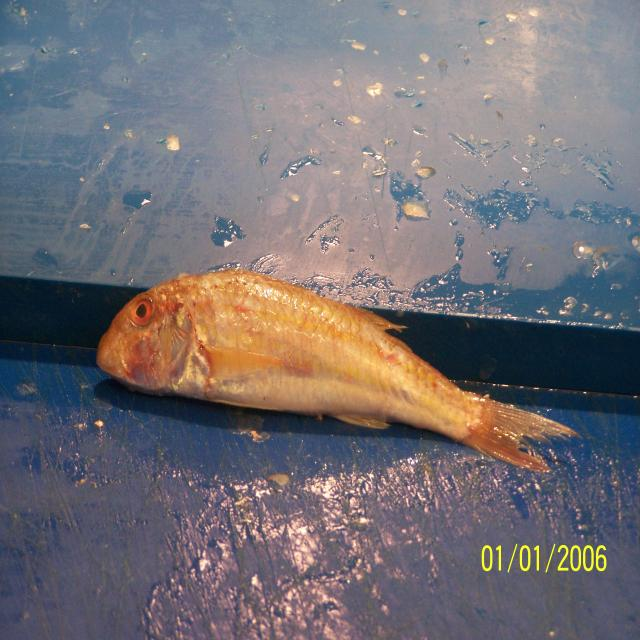Striped-Red-Mullet-tekir-: (94, 269, 566, 476)
